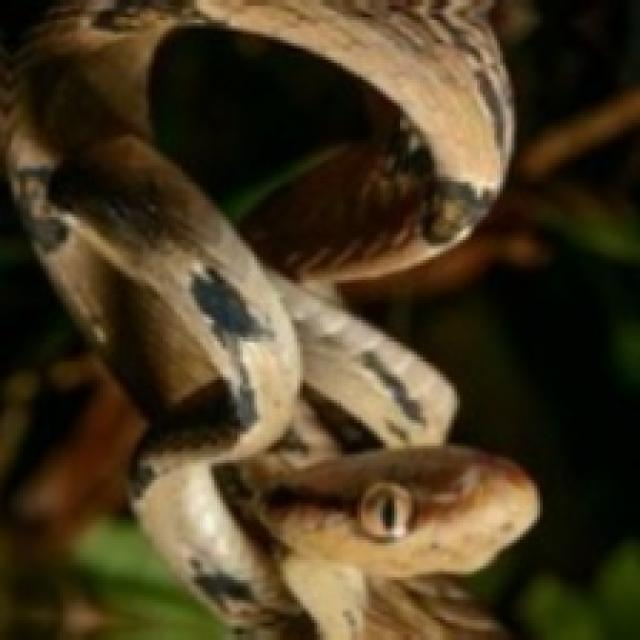dog-toothed cat snake: (11, 0, 534, 639)
